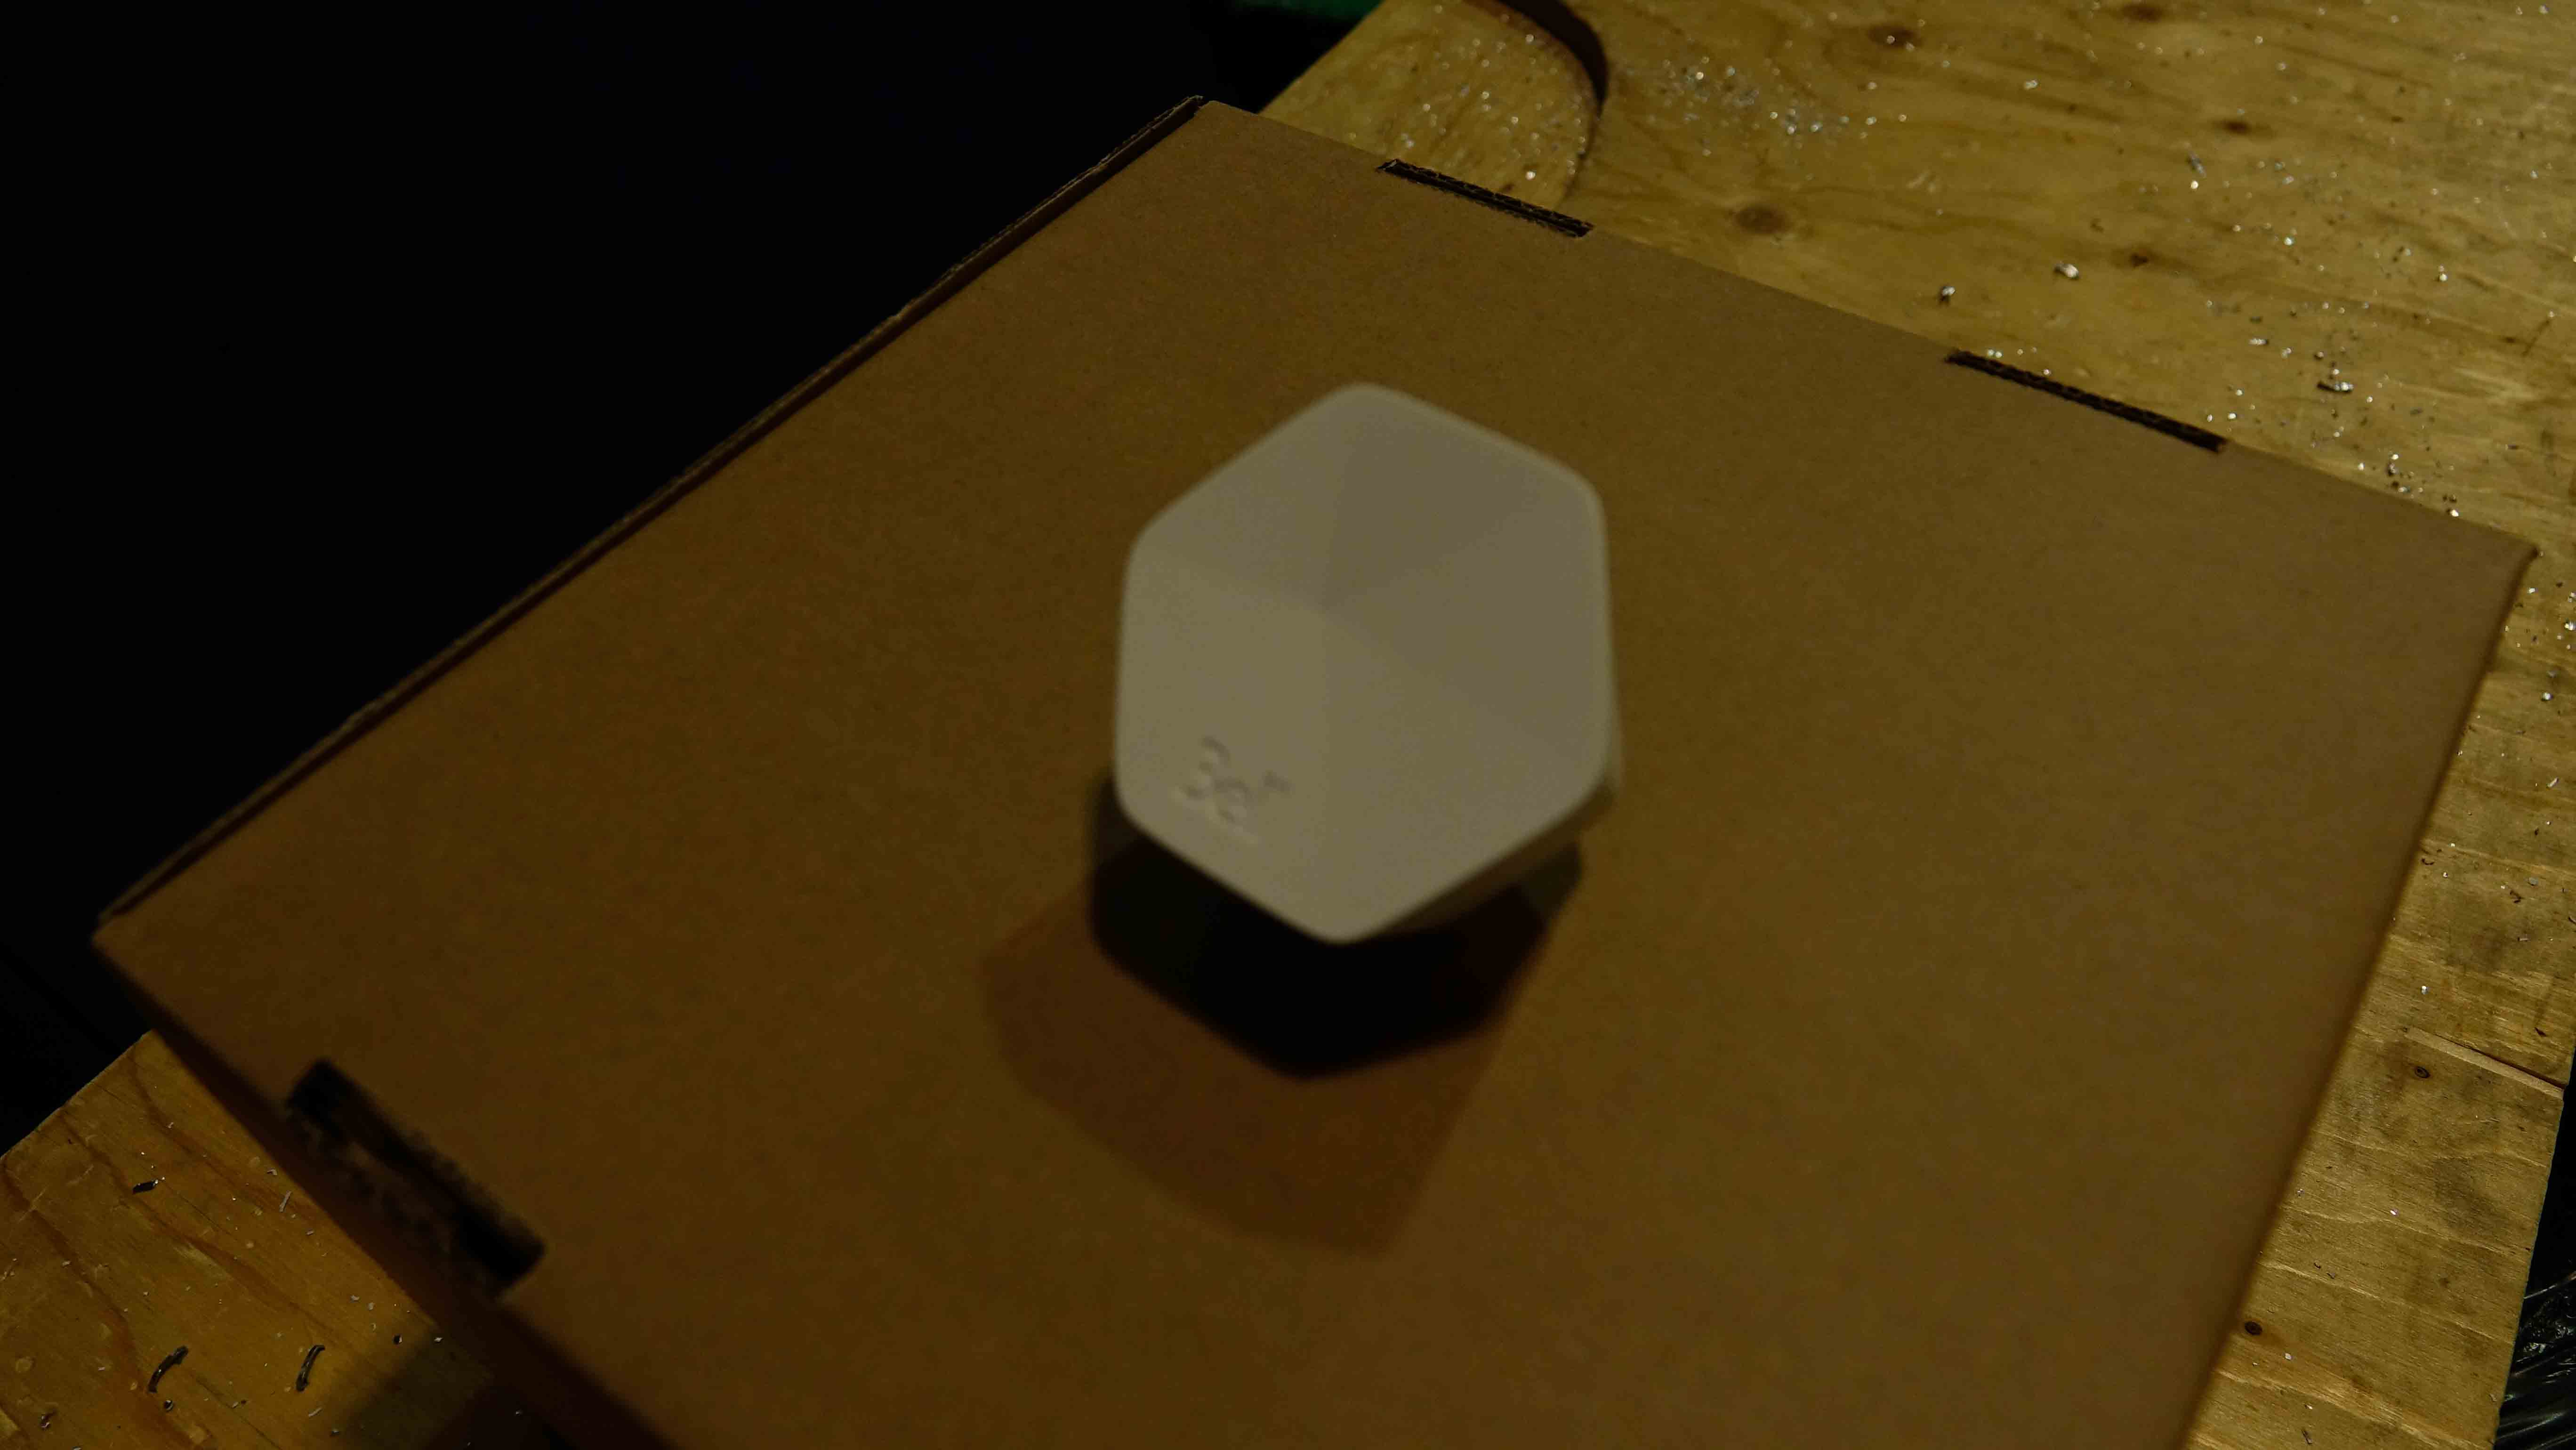pod: (1095, 373, 1631, 969)
